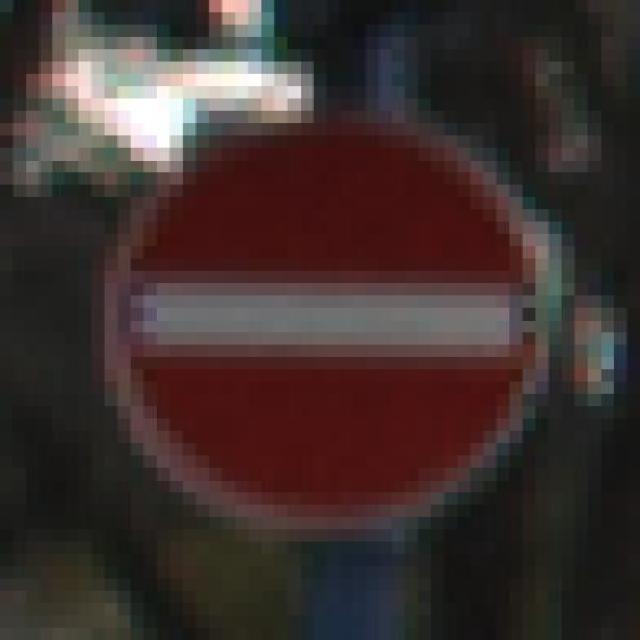B2: (107, 118, 541, 530)
